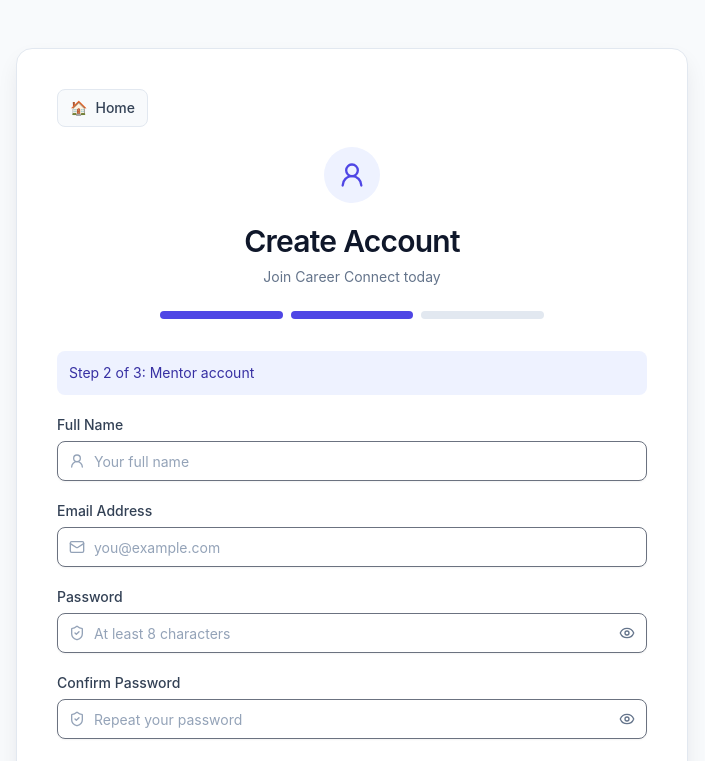
Test case: RegisterPro role selection › collects mentor expertise as part of the final signup step
Type "Mentor Example" into the field labelled "Full Name". click: point(352, 461)
box: [57,441,647,481]
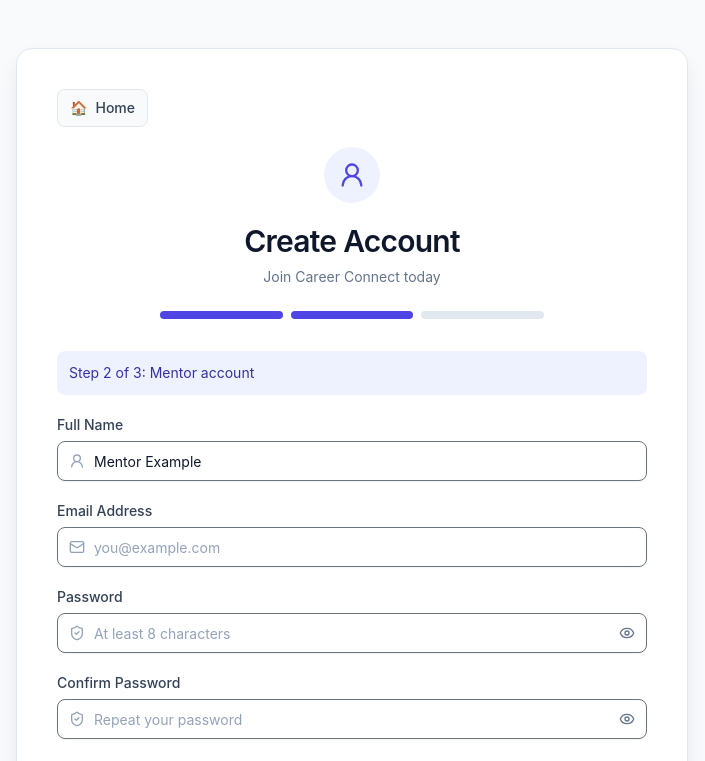
Type "mentor@example.com" into the field labelled "Email Address". click: point(352, 547)
box: [57,527,647,567]
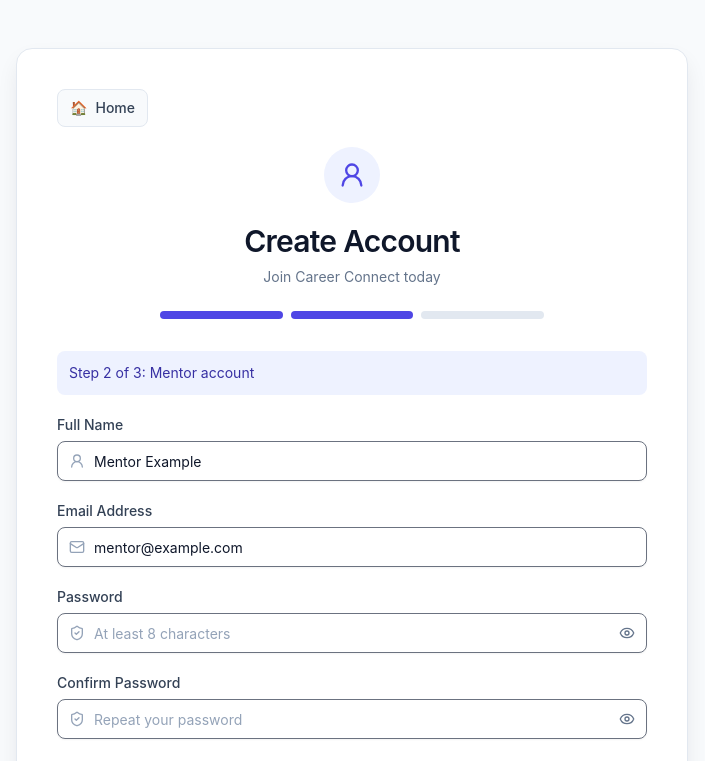
Type "Strong123" into the password field labelled "Password". click: point(352, 633)
box: [57,613,647,653]
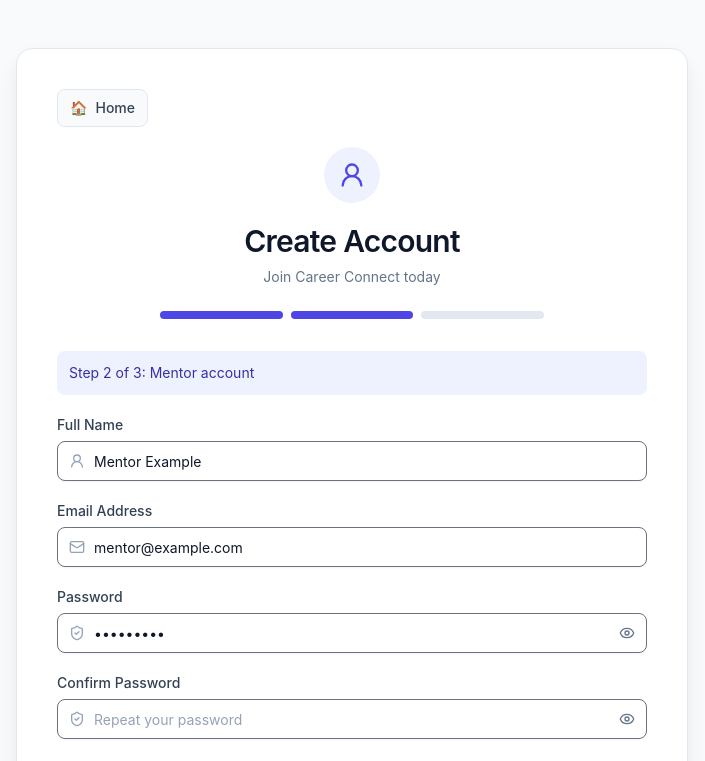
Type "Strong123" into the password field labelled "Confirm Password". click: point(352, 719)
box: [57,699,647,739]
(page scrolled)
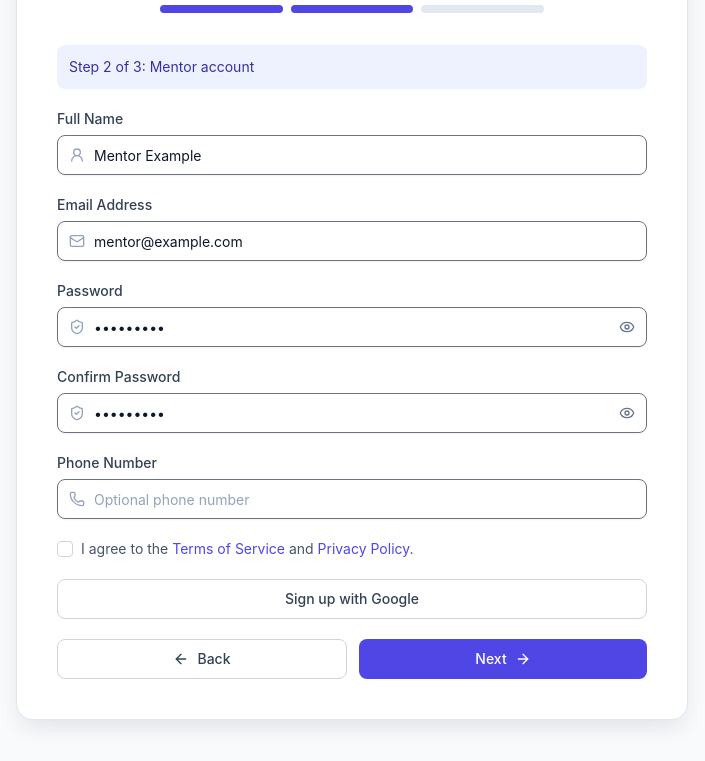
Click the checkbox. click: point(65, 549)
box: [57,541,73,557]
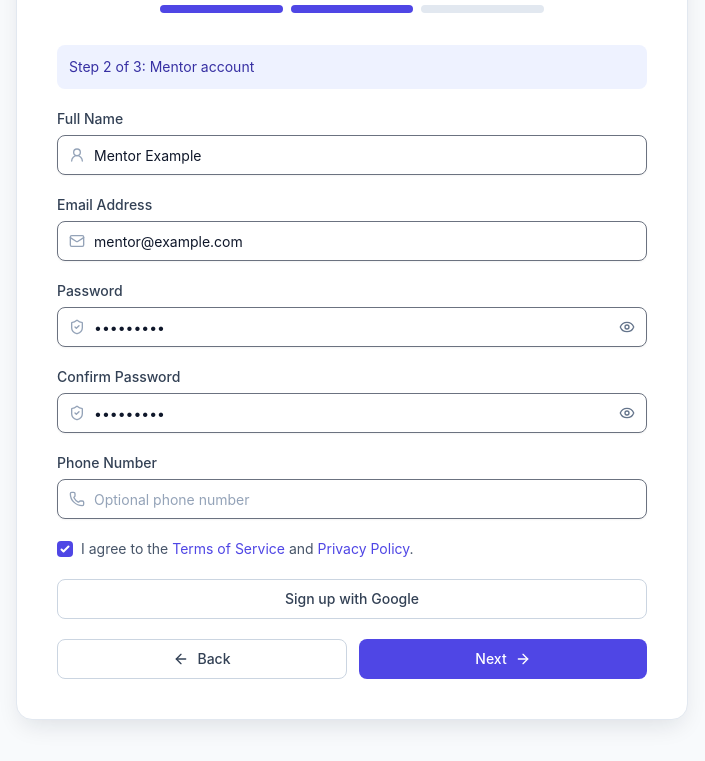
Click the button "Next". click: point(503, 659)
box: [359,639,647,679]
(page scrolled)
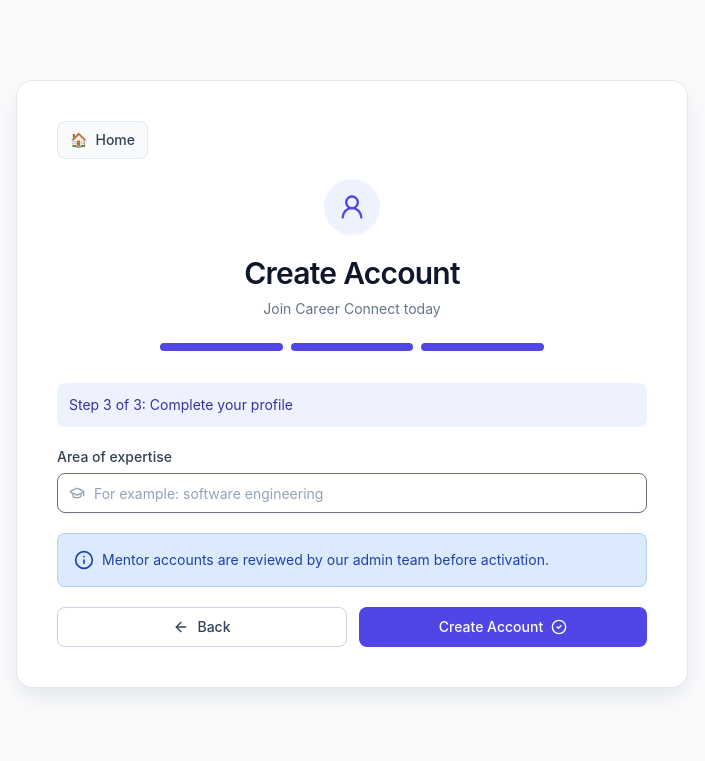
Result: the field labelled "Area of expertise" is shown at [57,473,647,513]
